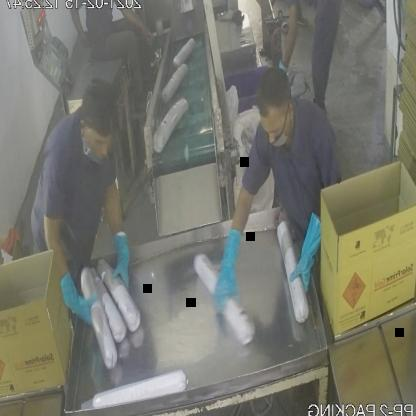glove: (211, 201, 249, 325), (288, 198, 325, 305), (54, 261, 101, 331), (103, 226, 133, 298)
no_glove: (117, 0, 157, 49), (274, 0, 303, 67), (66, 0, 86, 47)
